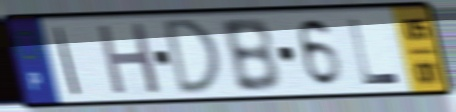6: (295, 16, 346, 89)
B: (217, 15, 283, 95)
D: (162, 16, 225, 99)
H: (94, 20, 164, 98)
I: (52, 25, 83, 98)
L: (345, 16, 404, 88)
